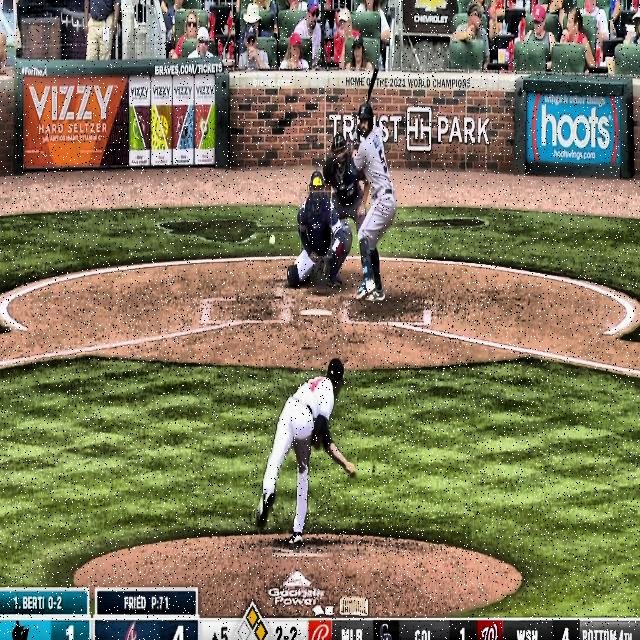baseball: (269, 235, 275, 246)
